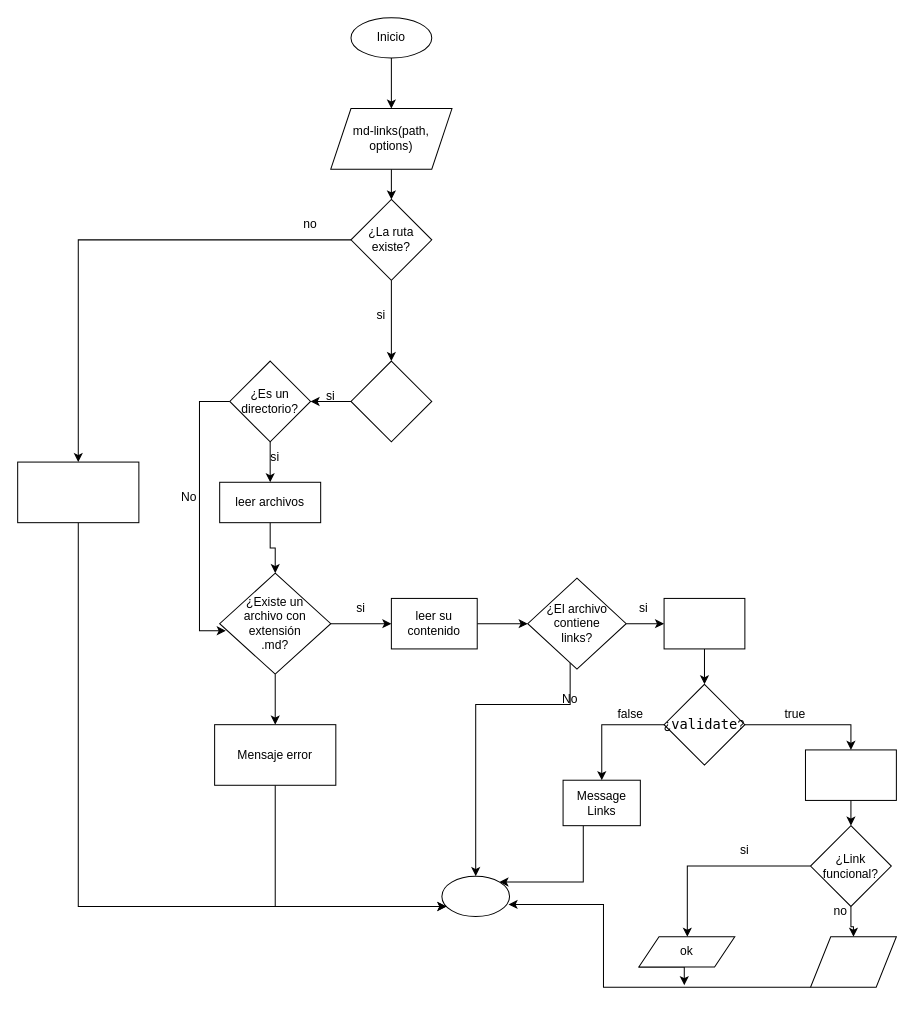
Image size: 914x1013. Some labels were removed from this diagram. The centre of each missing label's shape, as x and y in pixels:
"extraer un array de links" goes at (x=704, y=623).
"fail" goes at (x=853, y=961).
"fin" goes at (x=475, y=896).
"Hacer un http request" goes at (x=850, y=774).
"Message Error" goes at (x=78, y=492).
"¿Es absoluta?" goes at (x=391, y=401).
